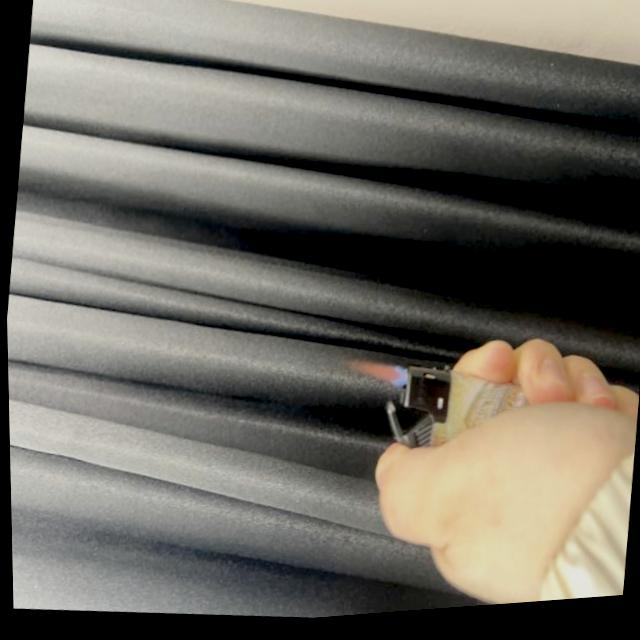helmet: (343, 360, 407, 399)
